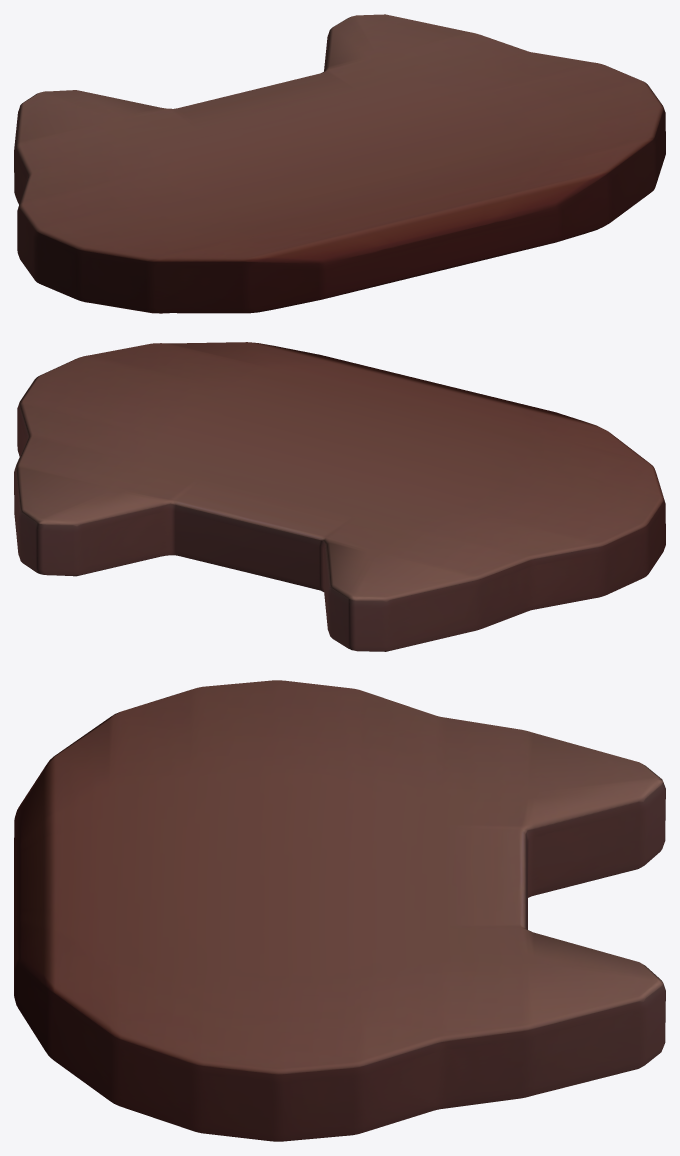
3 renders of one model, top to bottom at view 1: azimuth 30°, elevation 25°; view 2: azimuth 150°, elevation 25°; view 3: azimuth 270°, elevation 25°, orthographic. The views are drawn at different scales.
Parts seen in each view (by area): view 1: Bottom; view 2: Bottom; view 3: Bottom.
Part boxes in pixels (bbox=[...]): Bottom: bbox=[14, 14, 665, 313]; Bottom: bbox=[14, 342, 665, 651]; Bottom: bbox=[14, 680, 665, 1141].
Size of the model in its own units: 212 by 20.21 by 148.
1 material, 1 textured.
